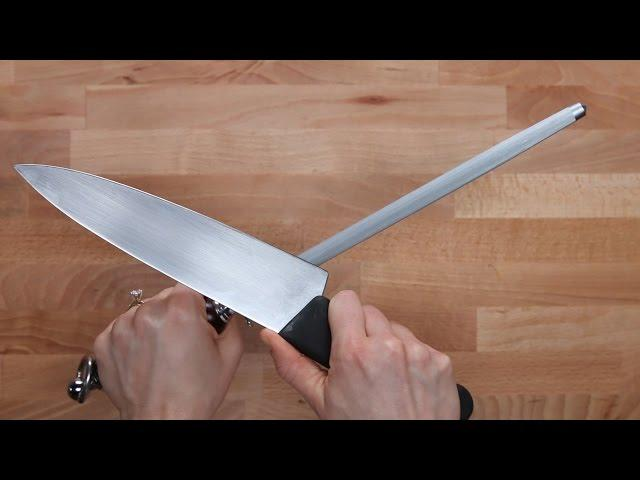Knife: (60, 100, 593, 408), (10, 158, 488, 420), (84, 278, 478, 422), (255, 286, 472, 420), (92, 283, 253, 420)
